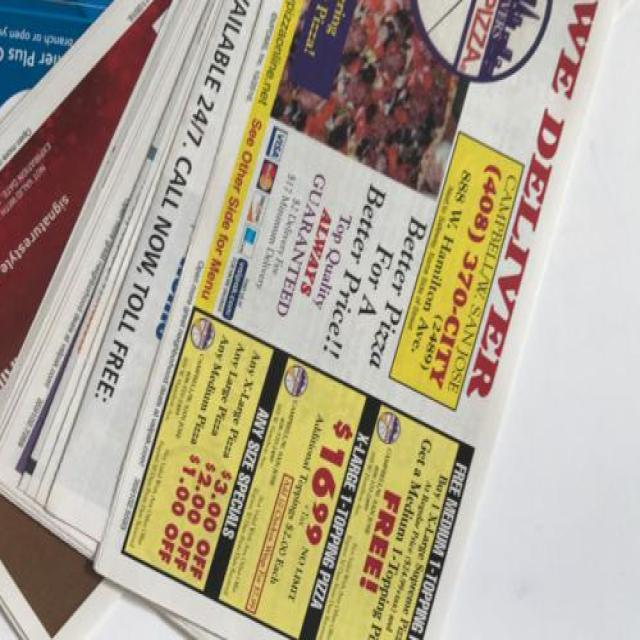kertas: (0, 0, 630, 640)
